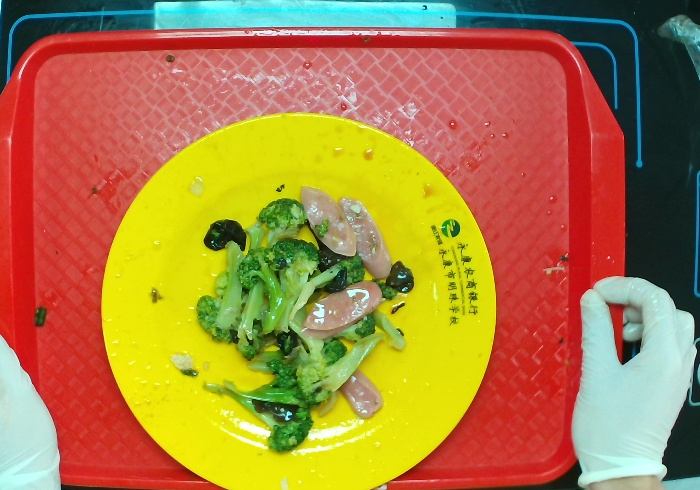YKMZ-Huang_Se_Mian_Pan: (99, 111, 497, 490)
